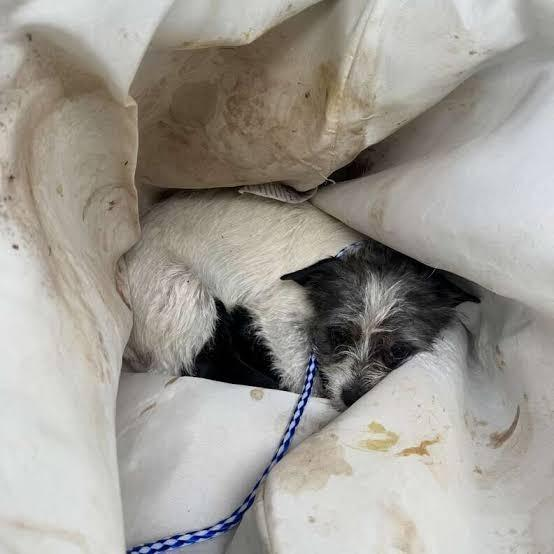puppy-dog: (115, 189, 483, 413)
